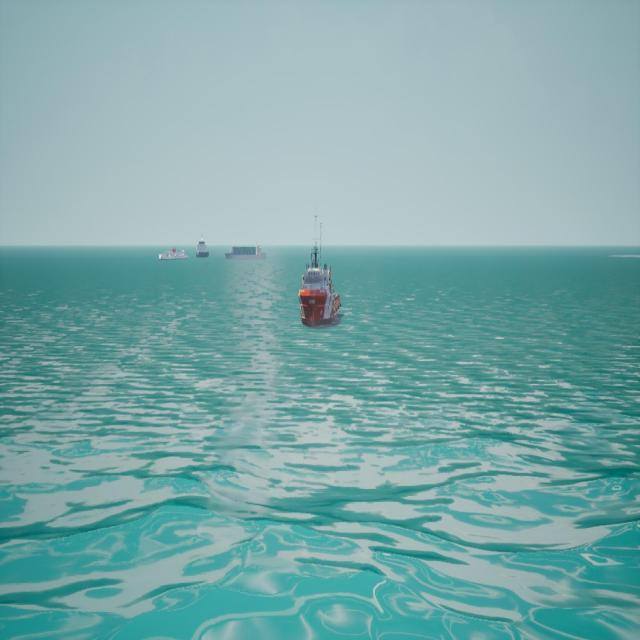tug boat: (298, 208, 343, 329)
